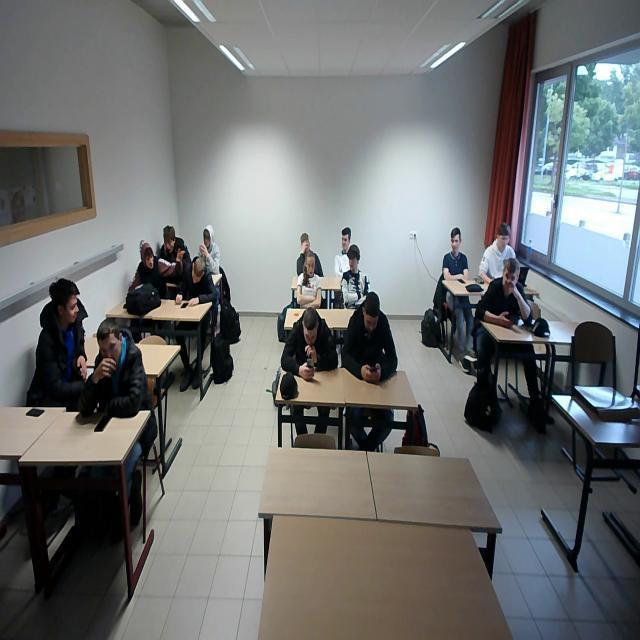Looking away: (139, 241, 155, 270), (498, 224, 510, 252), (202, 228, 214, 250), (342, 228, 351, 250)
Looking forward: (95, 323, 122, 364), (163, 226, 176, 254), (348, 245, 359, 273), (450, 228, 461, 252), (306, 256, 316, 277)
Phone use: (339, 292, 398, 383), (285, 302, 336, 384), (483, 258, 534, 330), (175, 255, 219, 310)
Turning around: (28, 283, 88, 407)
